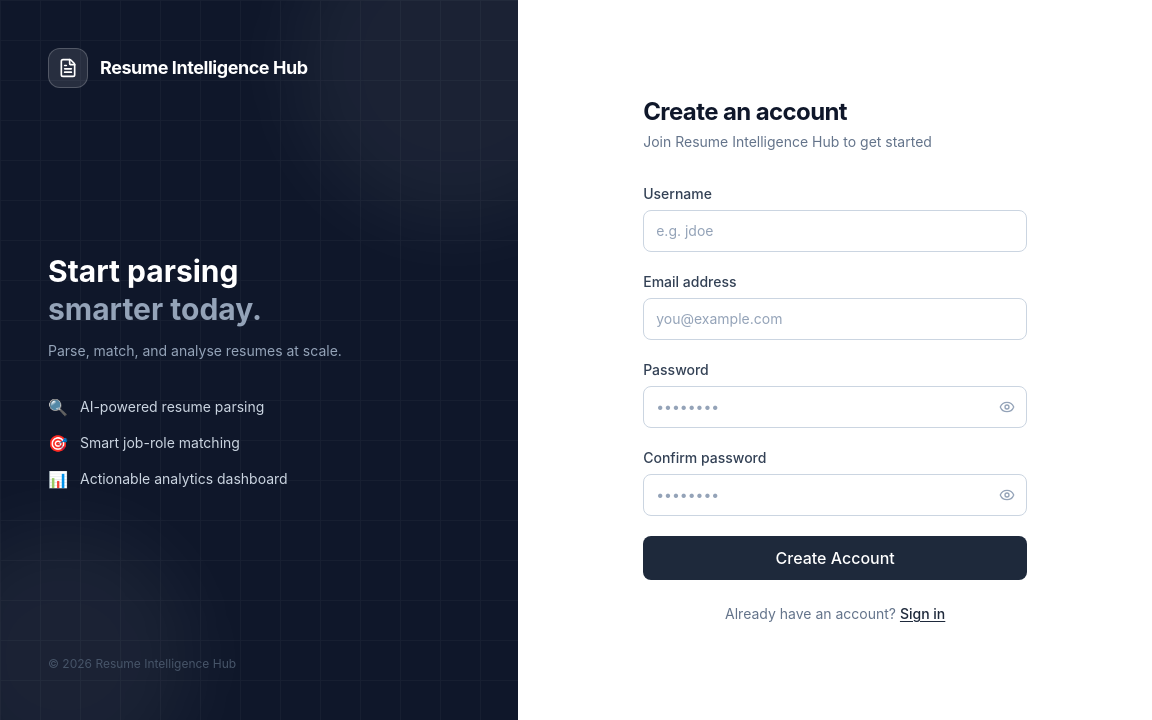
Test: RegisterPage — field validation › shows only a confirmPassword error when passwords do not match
Type "john_doe" into the field labelled "Username". click: {"x": 835, "y": 231}
box: [643, 210, 1027, 252]
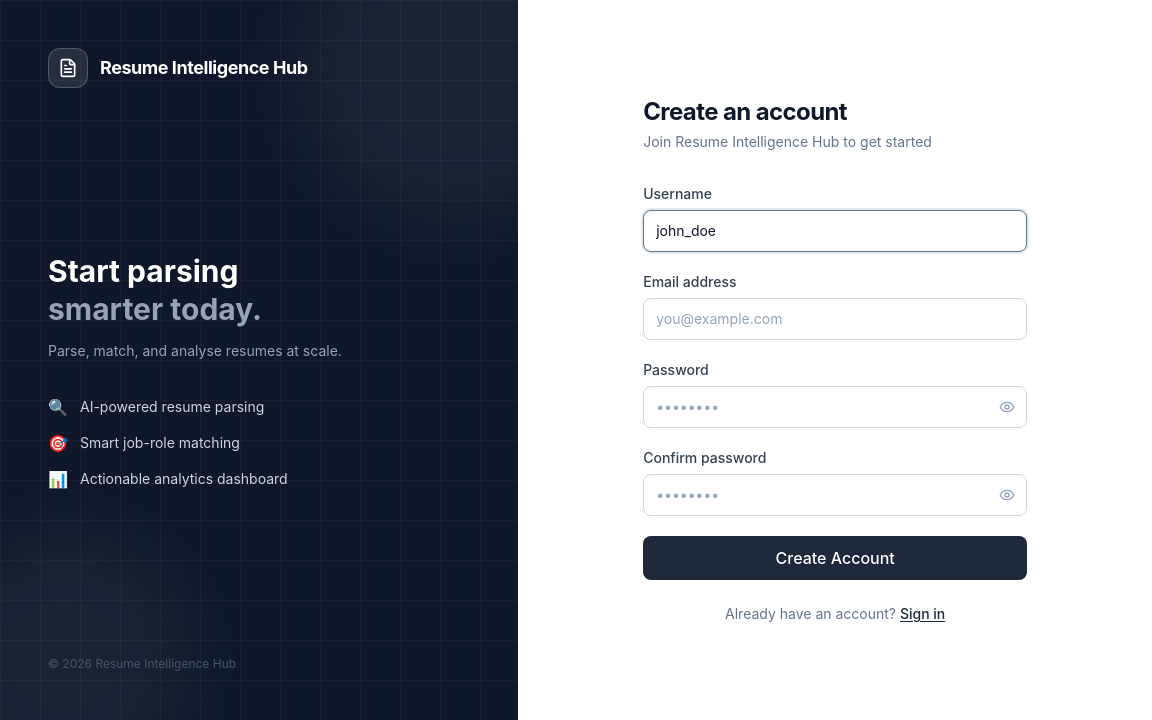
Type "john@example.com" into the field labelled "Email address". click: {"x": 835, "y": 319}
box: [643, 298, 1027, 340]
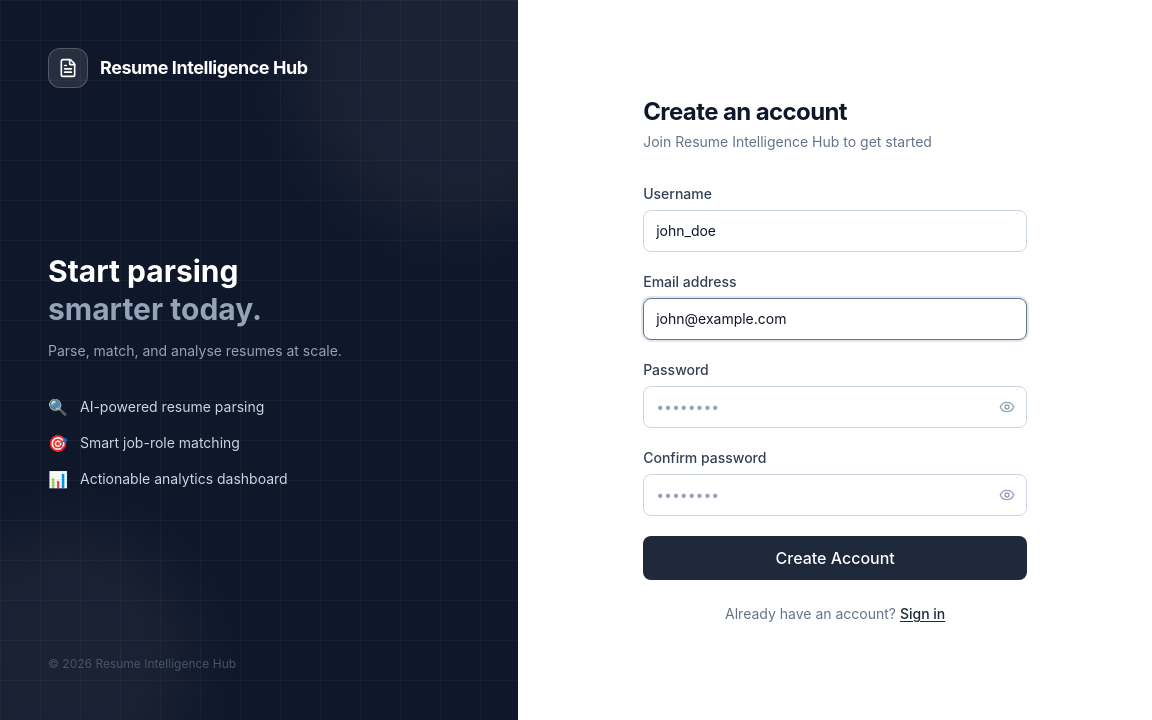
Type "password123" into the password field labelled "Password". click: {"x": 835, "y": 407}
box: [643, 386, 1027, 428]
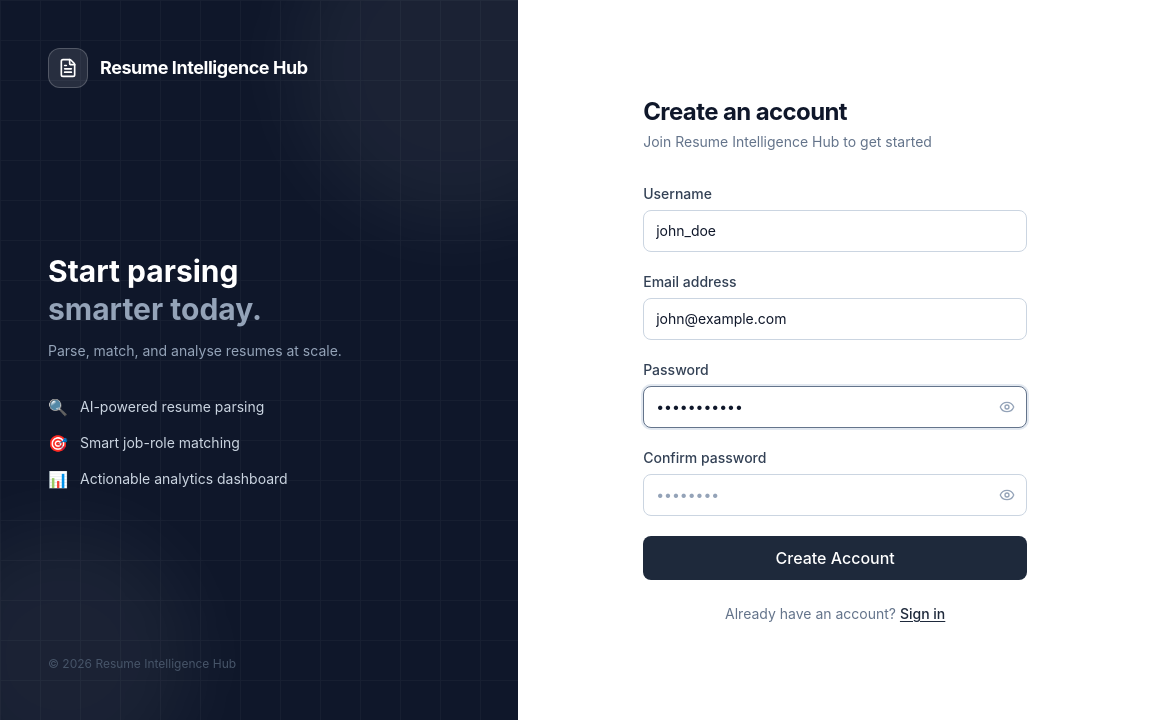
Type "different" into the password field labelled "Confirm password". click: {"x": 835, "y": 495}
box: [643, 474, 1027, 516]
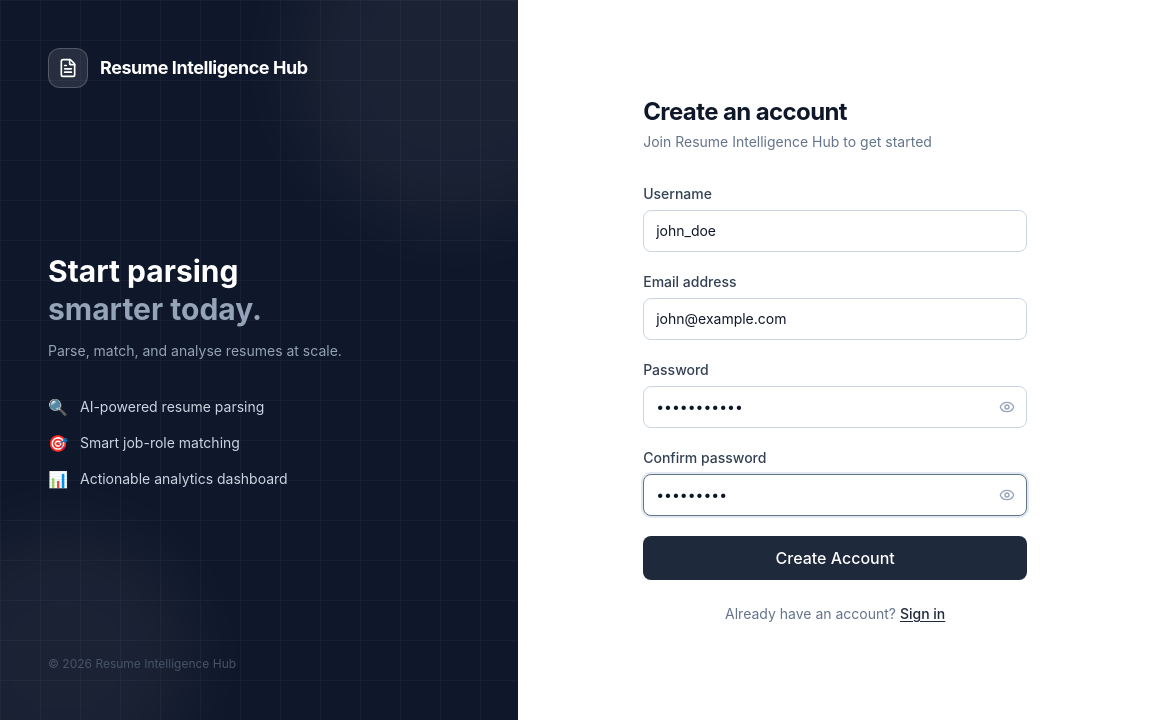
Click the button "Create Account". click: {"x": 835, "y": 558}
box: [643, 536, 1027, 580]
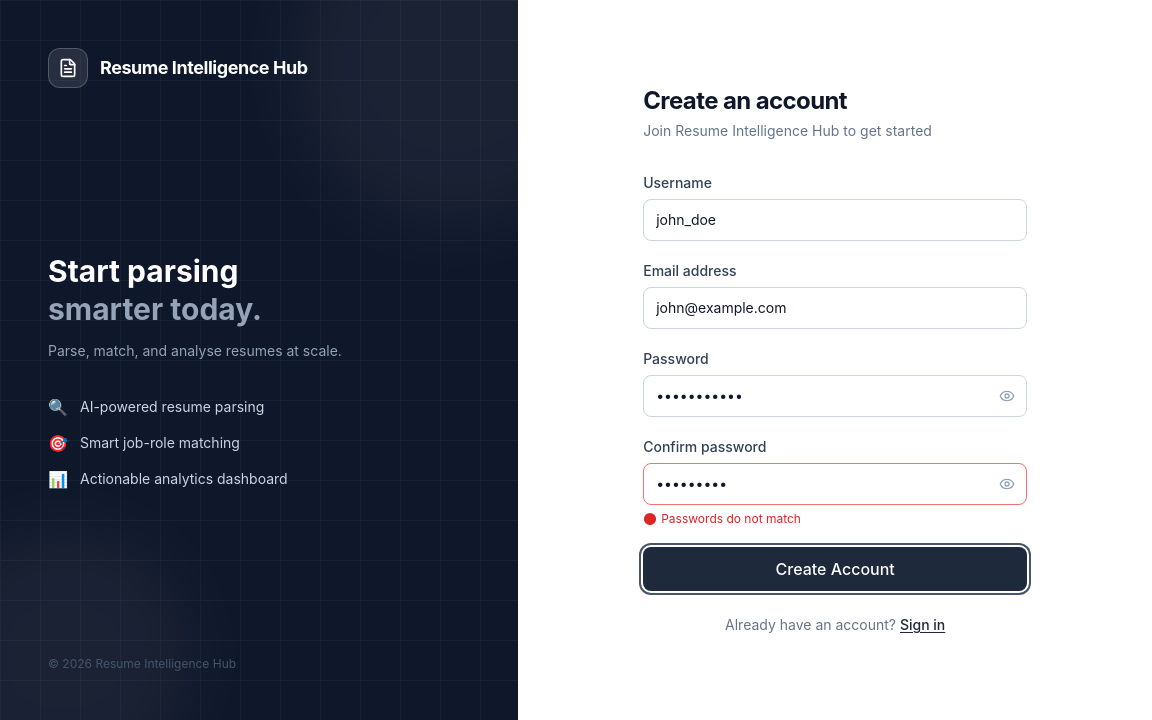
Now the message "Passwords do not match" is shown, box [643, 511, 801, 526]
